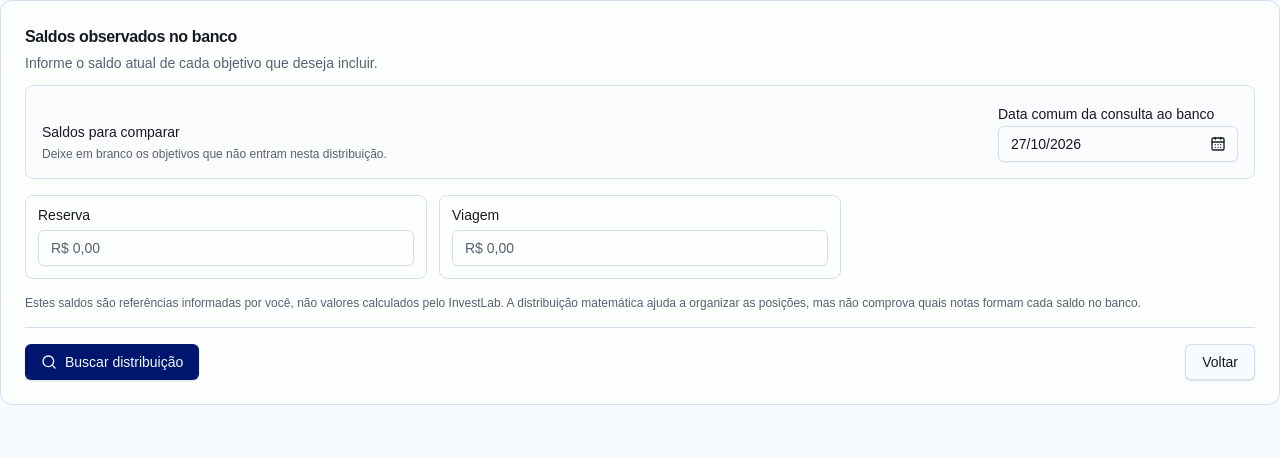
PortfolioObjectiveOrganizer › rejects finite balances whose cents exceed the safe integer range
In the field labelled "Reserva": (226, 248) [38, 230, 414, 266], type "9007199254740992"
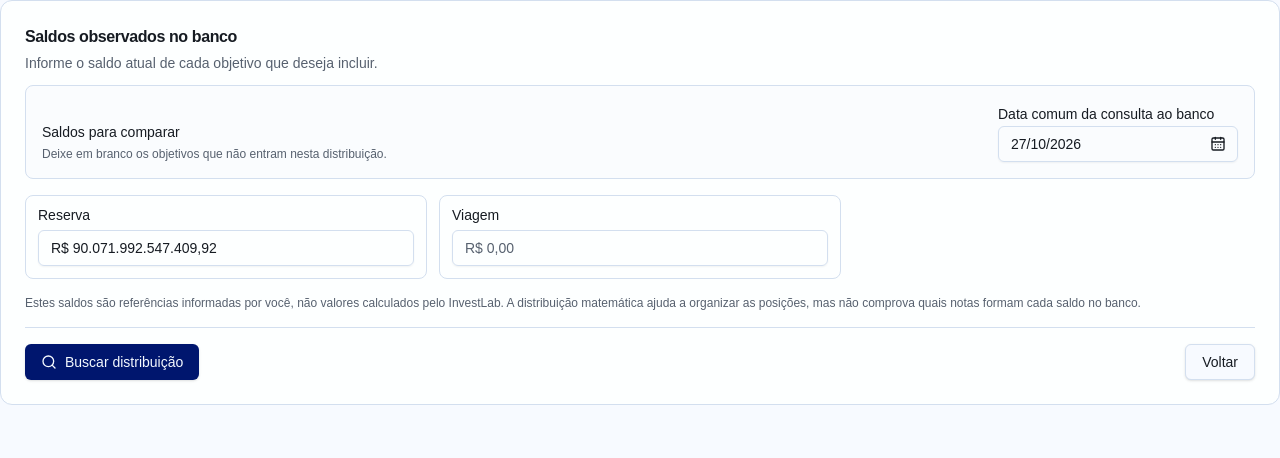
Click the button "Buscar distribuição": click(112, 362) [25, 344, 199, 380]
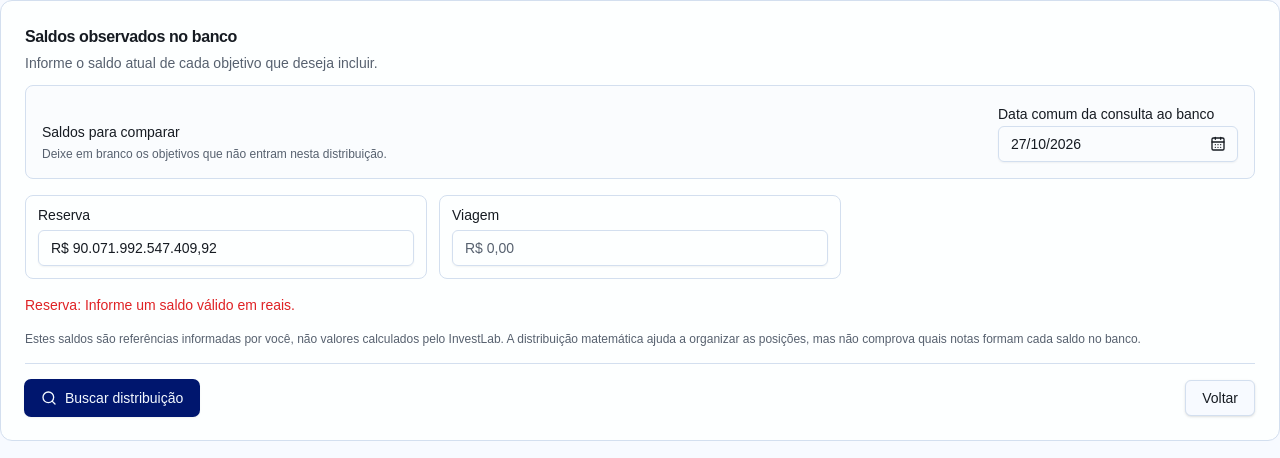
expect the message reads "Reserva: Informe um saldo válido em reais.": met, box [25, 297, 295, 313]
